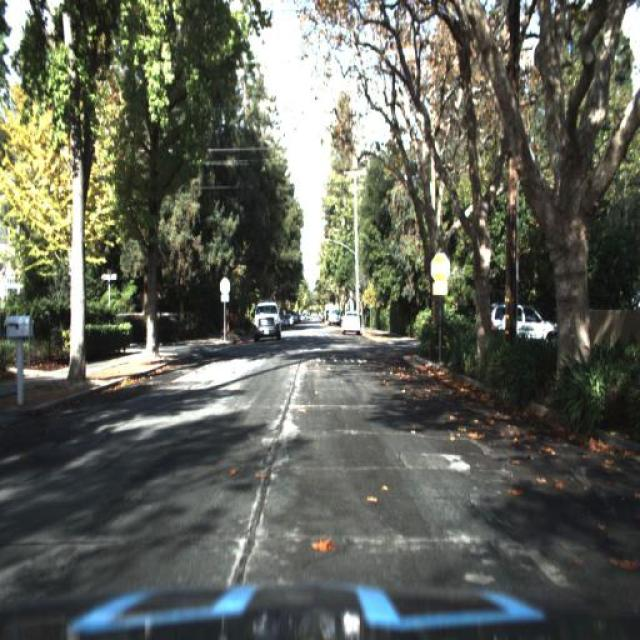car: (491, 290, 558, 354), (249, 294, 283, 342), (338, 306, 362, 338), (339, 302, 360, 328)
